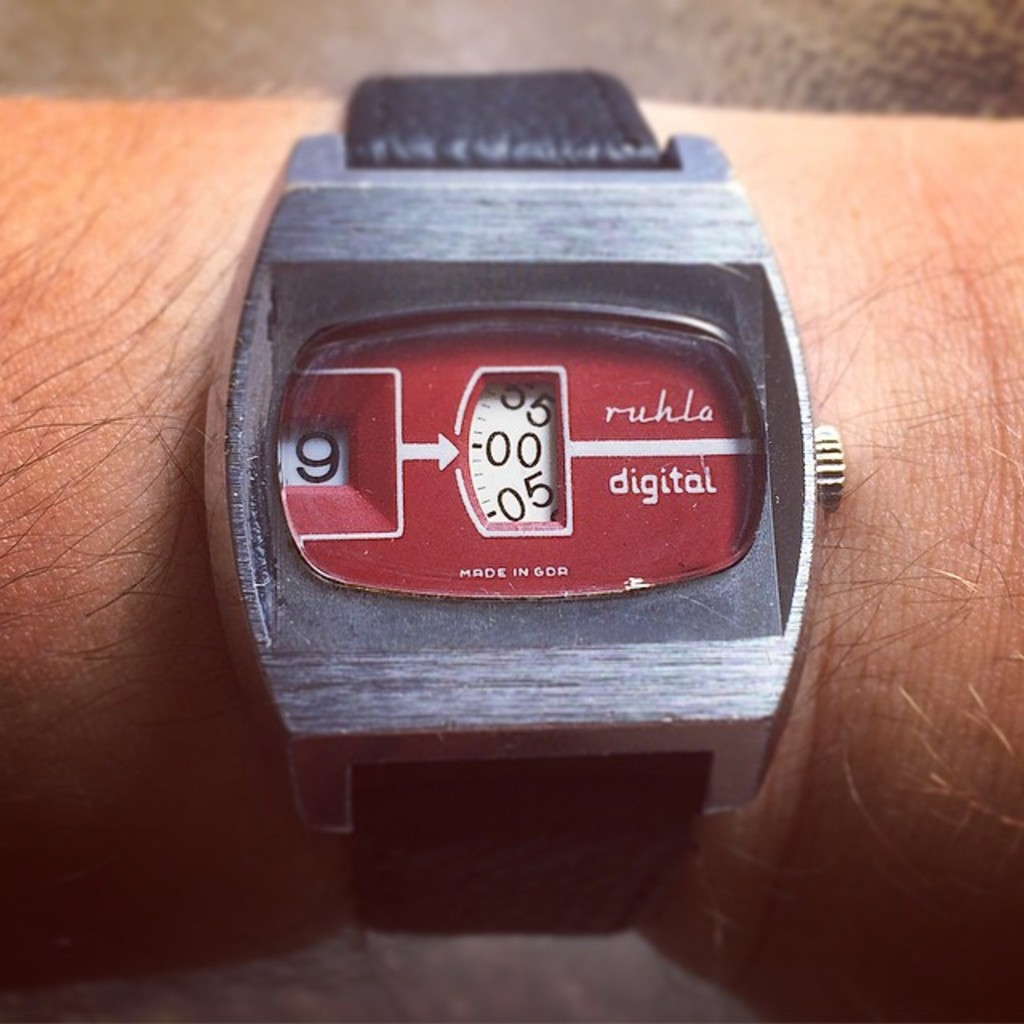watch: (201, 59, 844, 939)
